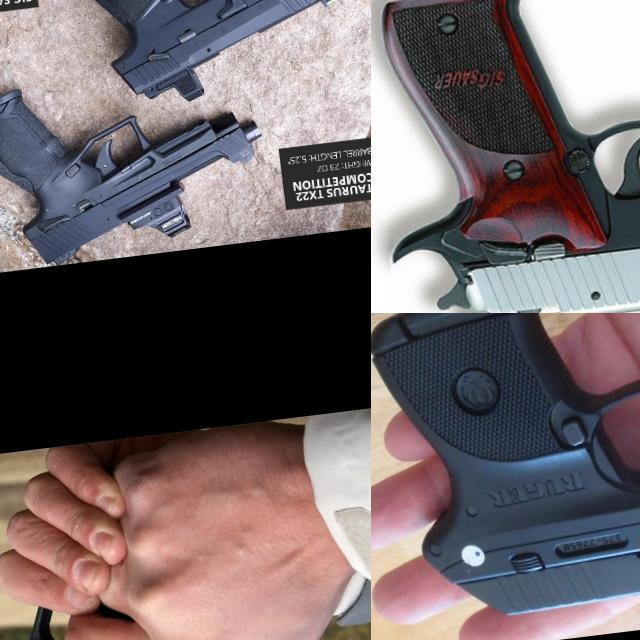handgun: (371, 313, 640, 633), (371, 0, 640, 313), (0, 55, 274, 273), (50, 0, 357, 119), (0, 574, 293, 640)
